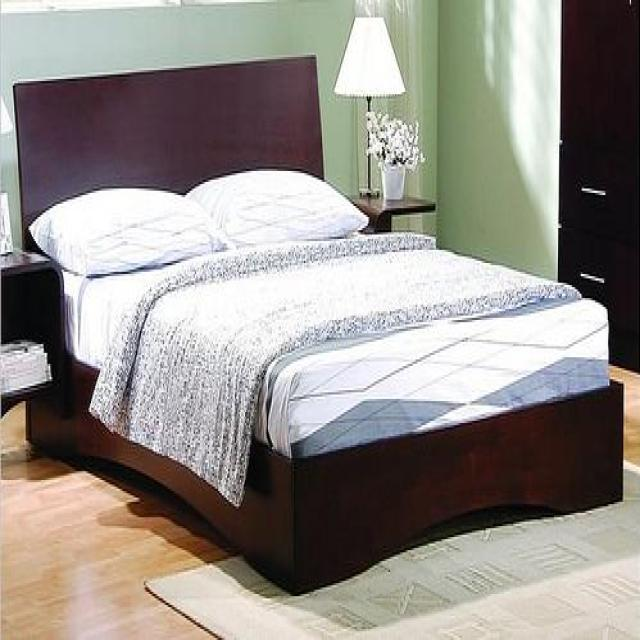bed: (11, 53, 624, 594)
